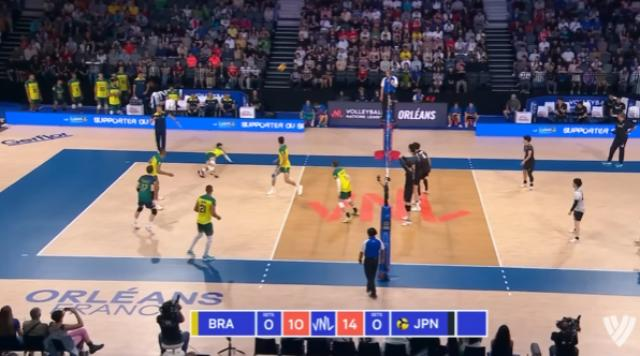Levantador: (325, 148, 367, 232), (514, 124, 550, 200)
Libero: (555, 169, 593, 250), (132, 160, 168, 244)
bola: (270, 54, 298, 78)
